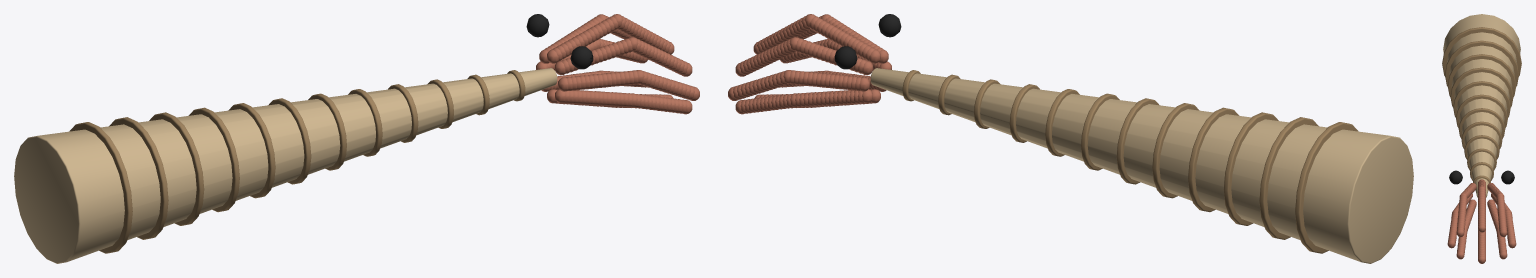
Rendered from cameroceras.glb.
3 renders of one model, left to right at view 1: azimuth 30°, elevation 25°; view 2: azimuth 150°, elevation 25°; view 3: azimuth 270°, elevation 25°, orthographic. The views are drawn at different scales.
Visible parts, largest first — view 1: cameroceras; view 2: cameroceras; view 3: cameroceras.
Boxes of the visible parts, x1,y1,x2,y2 form: cameroceras: (14,14,699,263); cameroceras: (728,14,1413,263); cameroceras: (1442,14,1521,263).
Bounding box in the file's own units: 4.95 × 0.92 × 0.92.
